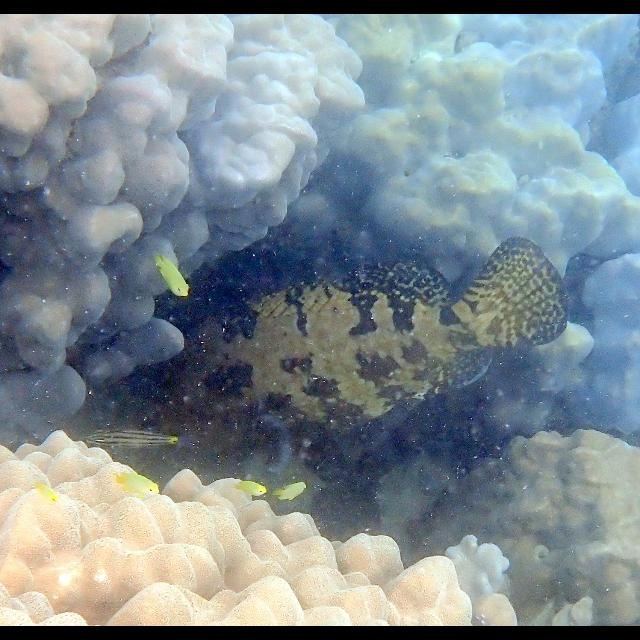Groupers: (129, 234, 565, 446)
